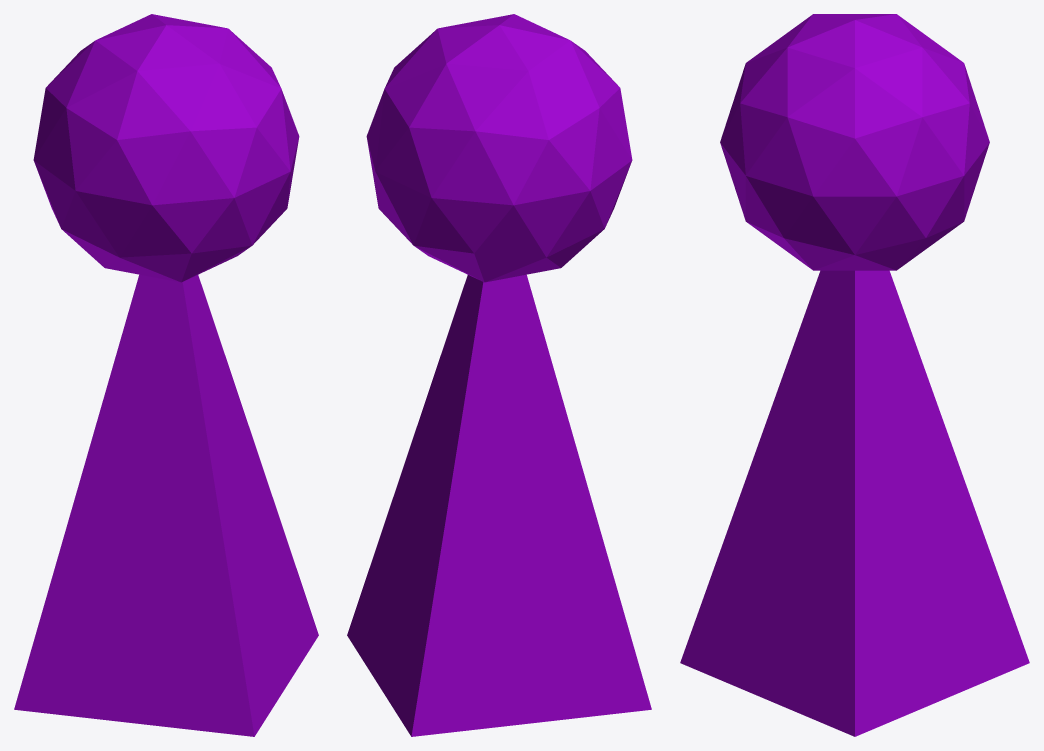
Rendered from player4.glb.
3 renders of one model, left to right at view 1: azimuth 30°, elevation 25°; view 2: azimuth 150°, elevation 25°; view 3: azimuth 270°, elevation 25°, orthographic.
Parts seen in each view (by area): view 1: Cone.003; view 2: Cone.003; view 3: Cone.003.
Part boxes in pixels (bbox=[...]): Cone.003: bbox=[14, 14, 318, 736]; Cone.003: bbox=[347, 14, 651, 736]; Cone.003: bbox=[680, 14, 1029, 736].
Size of the model in its own units: 0.5184 by 1.05 by 0.5184.
